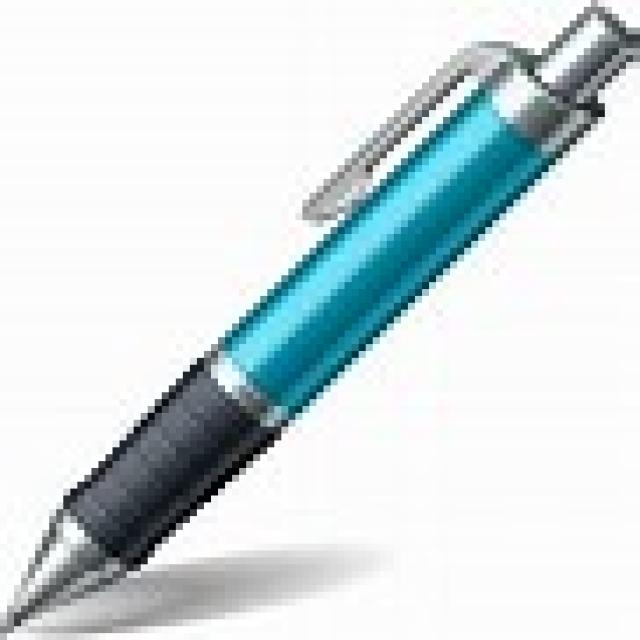pen: (0, 2, 640, 638)
